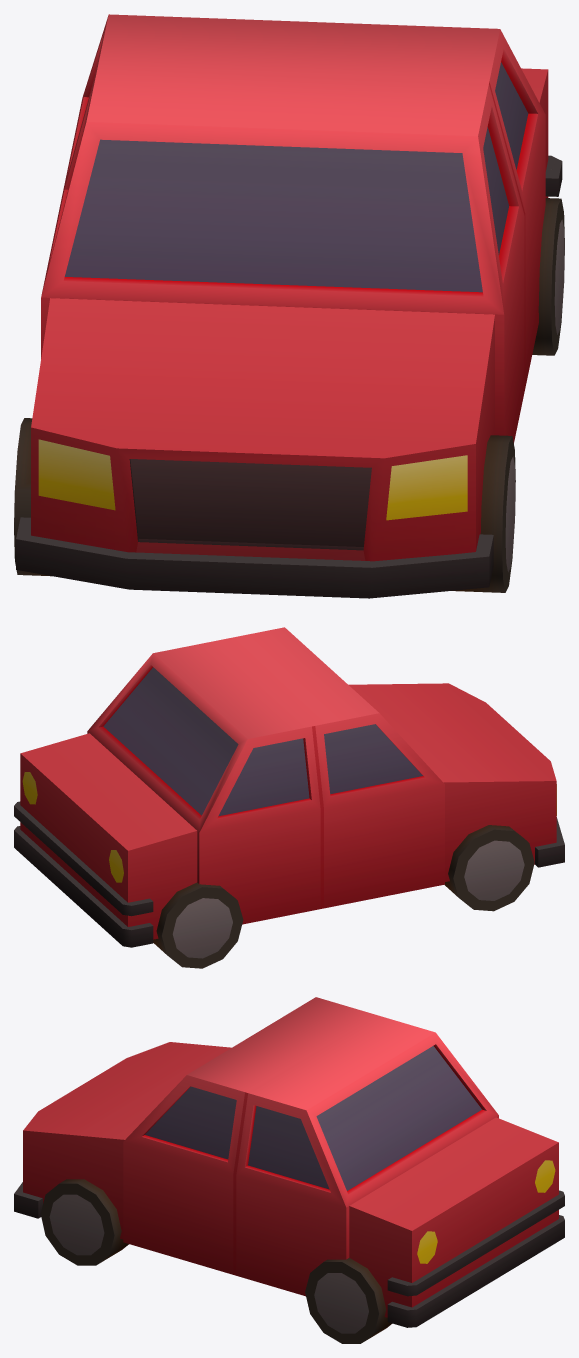
Rendered from Car.fbx.
3 views of the same model, one above another, from view 1: azimuth 30°, elevation 25°; view 2: azimuth 150°, elevation 25°; view 3: azimuth 270°, elevation 25° (orthographic). The views are drawn at different scales.
Parts seen in each view (by area): view 1: Car; view 2: Car; view 3: Car.
Boxes of the visible parts, x1,y1,x2,y2 form: Car: (14, 14, 564, 598); Car: (14, 627, 564, 968); Car: (14, 997, 564, 1343).
Size of the model in its own units: 2583 by 1193 by 2856.
1 material, 1 textured.
